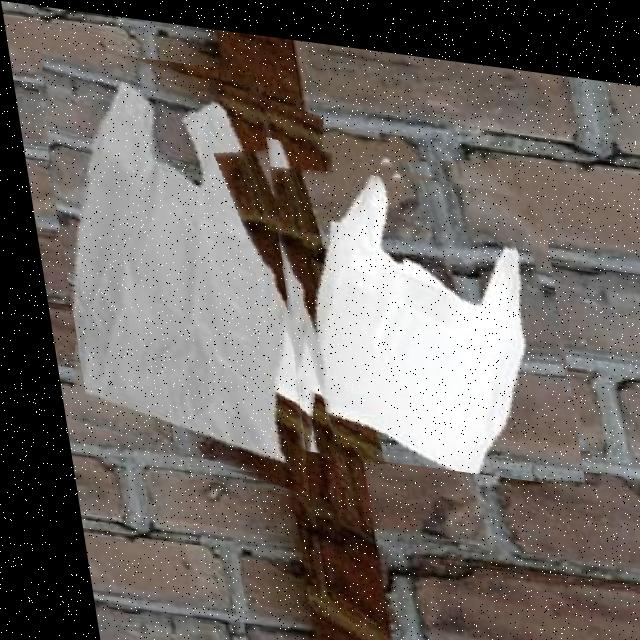litter: (29, 42, 350, 484), (253, 128, 571, 473)
